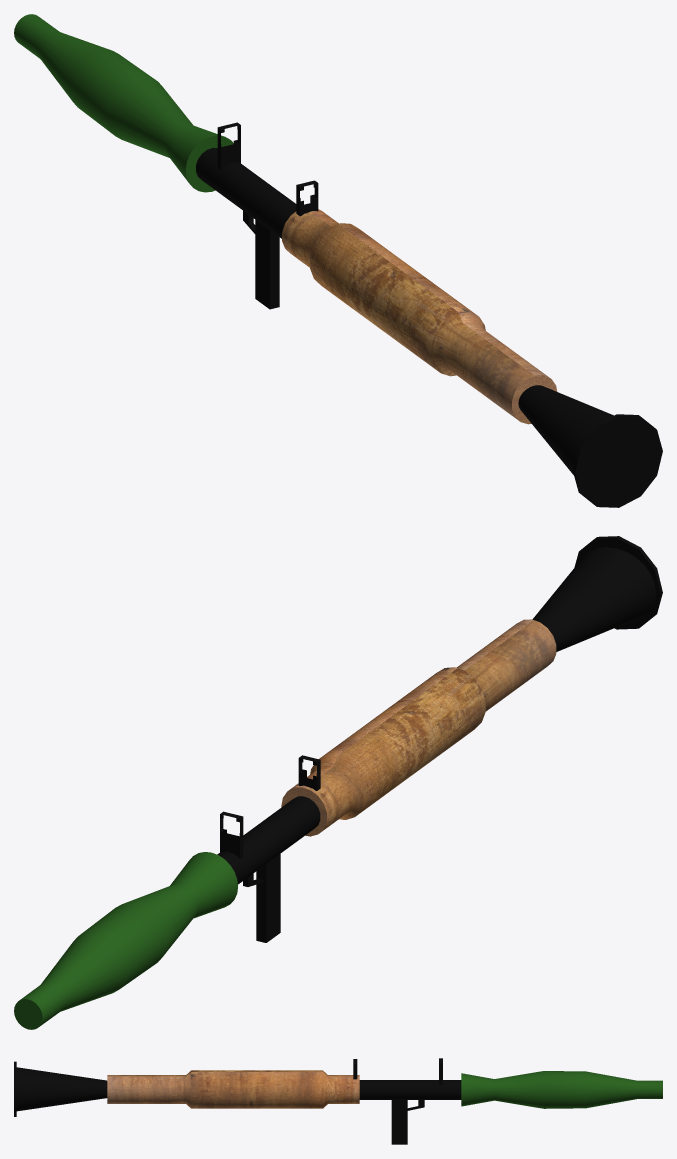
File: rpg.FBX
3 views of the same model, one above another, from view 1: azimuth 30°, elevation 25°; view 2: azimuth 150°, elevation 25°; view 3: azimuth 270°, elevation 25° (orthographic). The views are drawn at different scales.
Parts seen in each view (by area): view 1: Cylinder001, Cone002, Cylinder002, Cone001, Cylinder003, Box002, Box001; view 2: Cylinder001, Cone002, Cone001, Cylinder003, Box002, Cylinder002, Box001; view 3: Cylinder001, Cone002, Cone001, Cylinder003, Box002, Cylinder002.
Part boxes in pixels (<box>): Cylinder001: <box>282,209,557,424</box>; Cone002: <box>14,14,233,192</box>; Cylinder002: <box>573,414,662,507</box>; Cone001: <box>518,385,613,474</box>; Cylinder003: <box>196,147,296,238</box>; Box002: <box>255,220,279,309</box>; Box001: <box>217,122,240,169</box>; Cylinder001: <box>281,619,556,836</box>; Cone002: <box>14,852,237,1029</box>; Cone001: <box>532,547,655,651</box>; Cylinder003: <box>217,796,320,884</box>; Box002: <box>256,854,280,942</box>; Cylinder002: <box>574,536,662,629</box>; Box001: <box>220,811,243,858</box>; Cylinder001: <box>107,1070,359,1108</box>; Cone002: <box>461,1071,662,1108</box>; Cone001: <box>16,1067,107,1111</box>; Cylinder003: <box>359,1080,461,1099</box>; Box002: <box>391,1100,407,1144</box>; Cylinder002: <box>14,1061,16,1116</box>.
Bounding box in the file's own units: 88.22 × 143 × 1029.
Materials: 3 (1 with a texture image).
